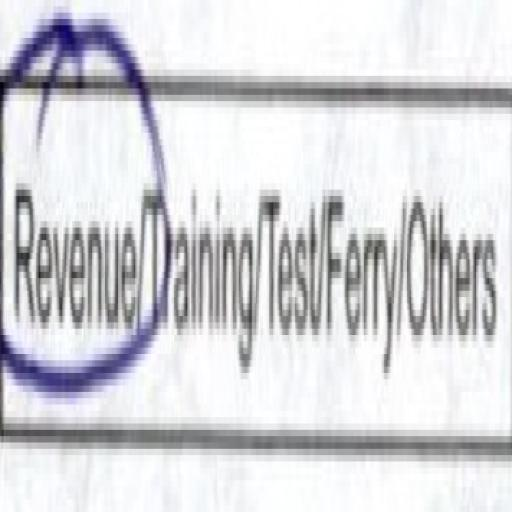check: (0, 0, 142, 442)
